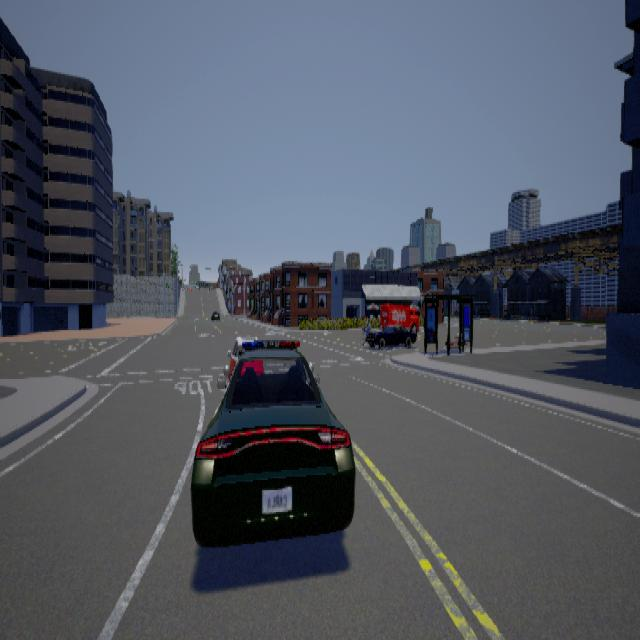vehicle: (191, 334, 357, 546), (363, 303, 421, 349)
